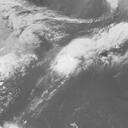cyclone: (58, 39, 100, 71)
